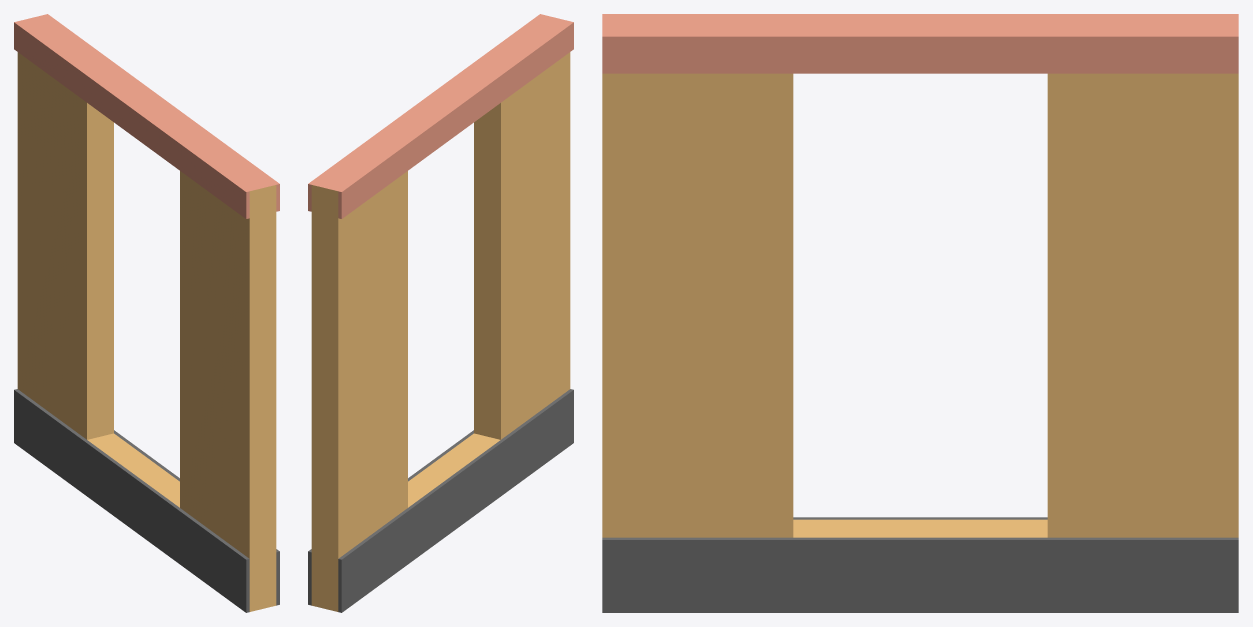
The model's file is Wall06.fbx.
The picture shows the model from 3 angles, left to right: view 1: azimuth 30°, elevation 25°; view 2: azimuth 150°, elevation 25°; view 3: azimuth 270°, elevation 25°; orthographic projection. The views are drawn at different scales.
Parts seen in each view (by area): view 1: Wall06; view 2: Wall06; view 3: Wall06.
Part boxes in pixels (bbox=[...]): Wall06: bbox=[14, 14, 279, 612]; Wall06: bbox=[308, 14, 573, 612]; Wall06: bbox=[602, 14, 1238, 612].
Bounding box in the file's own units: 0.2519 × 3 × 3.
